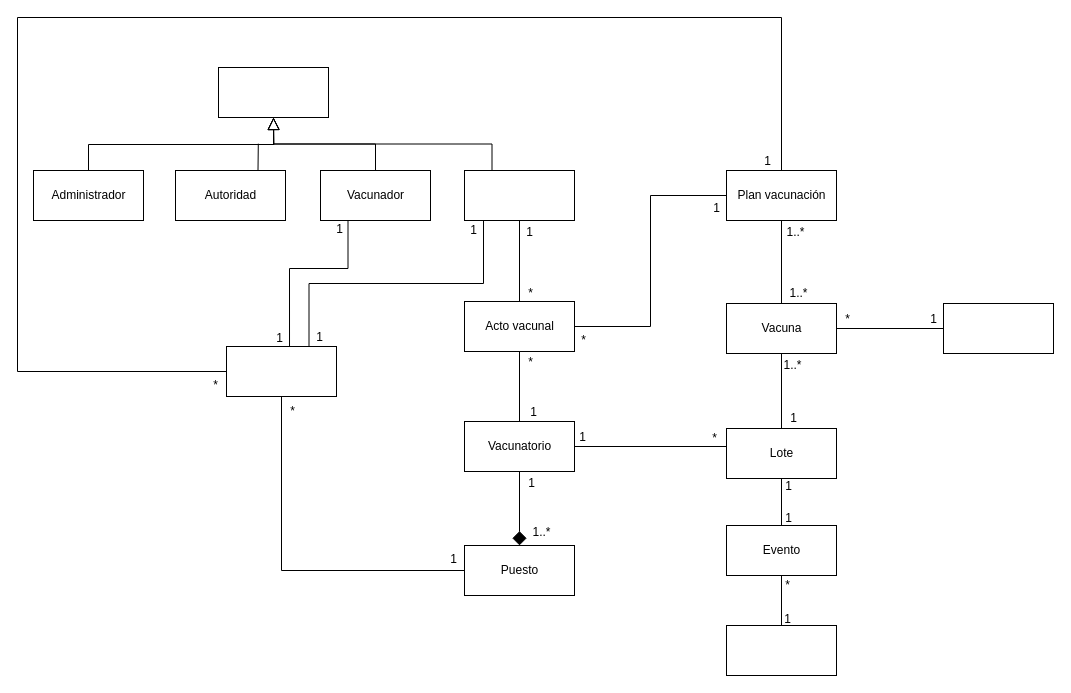
Some shapes in this 1071 by 693 pixel diagram are drawn without their labels. The shapes that lost their labels are listed below. From the top down, each one's centre as x and y in pixels, then its label:
At point 273,92: "Usuario".
At point 519,195: "Ciudadano".
At point 998,328: "Enfermedad".
At point 281,371: "Agenda".
At point 781,650: "Transportista".
